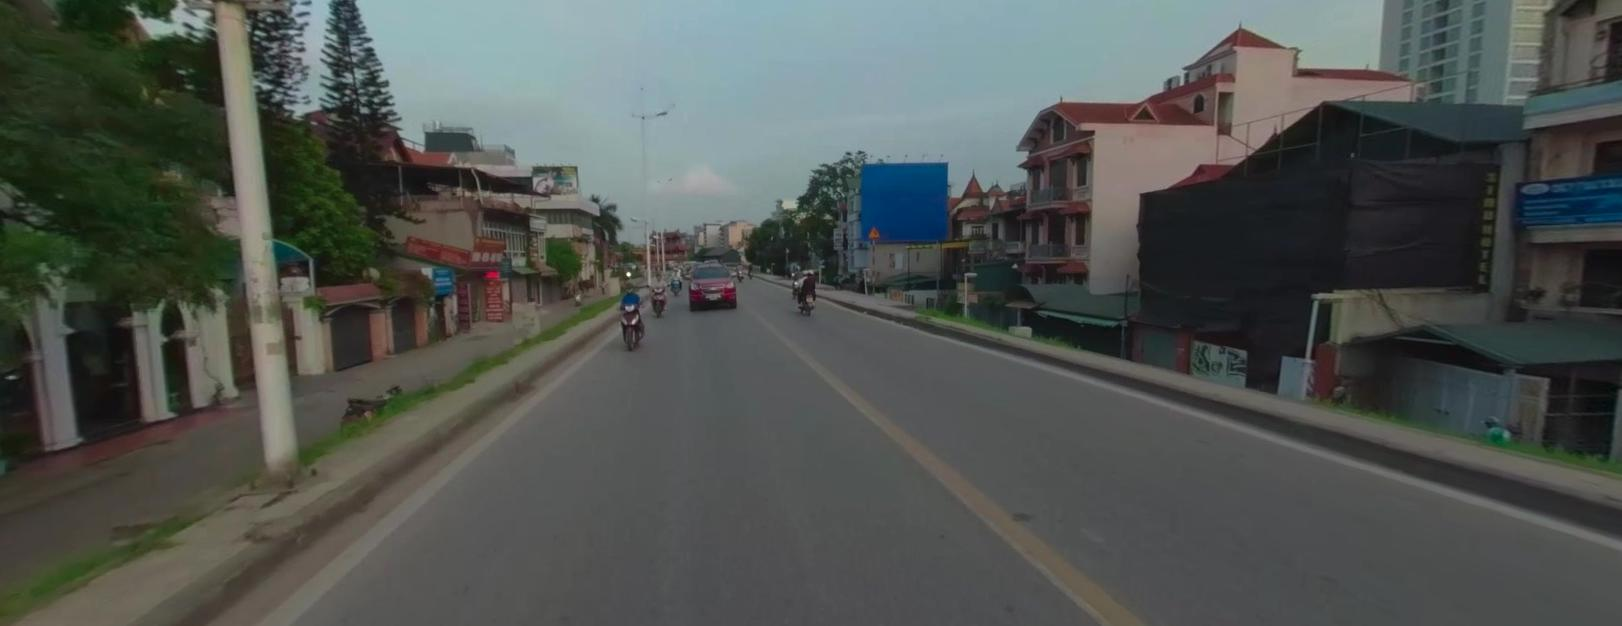Nguy hiem: (867, 225, 880, 237)
